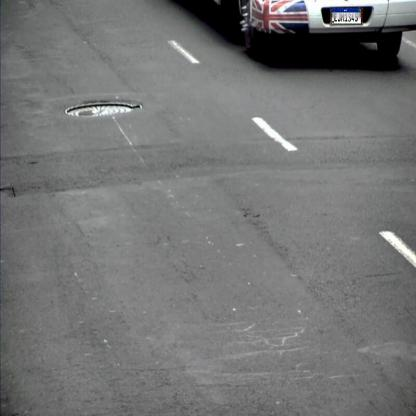PlacaM: (332, 8, 362, 24)
